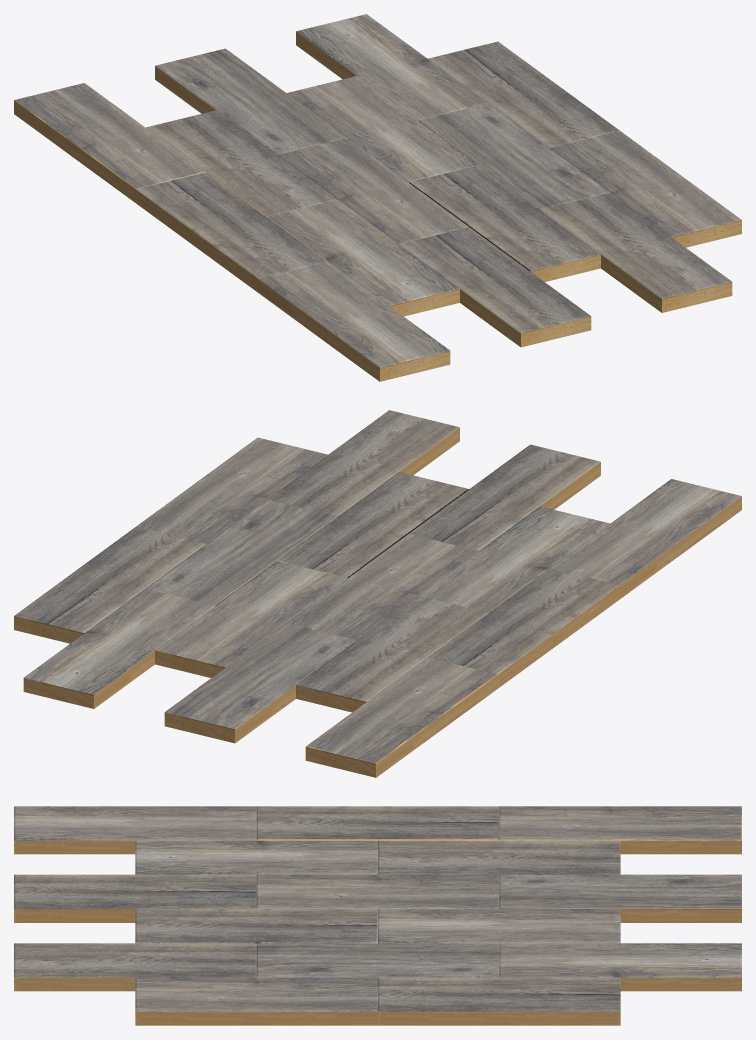
The model's file is floor.glb.
3 renders of one model, top to bottom at view 1: azimuth 30°, elevation 25°; view 2: azimuth 150°, elevation 25°; view 3: azimuth 270°, elevation 25°, orthographic.
Visible parts, largest first — view 1: parquet_model_0; view 2: parquet_model_0; view 3: parquet_model_0.
Part boxes in pixels (x1=…): parquet_model_0: x1=14, y1=14, x2=741, y2=381; parquet_model_0: x1=14, y1=410, x2=741, y2=777; parquet_model_0: x1=14, y1=806, x2=741, y2=1025.
Size of what is drawn, in the model's own units: 2 by 0.0658 by 3.
Materials: 1 (1 with a texture image).
